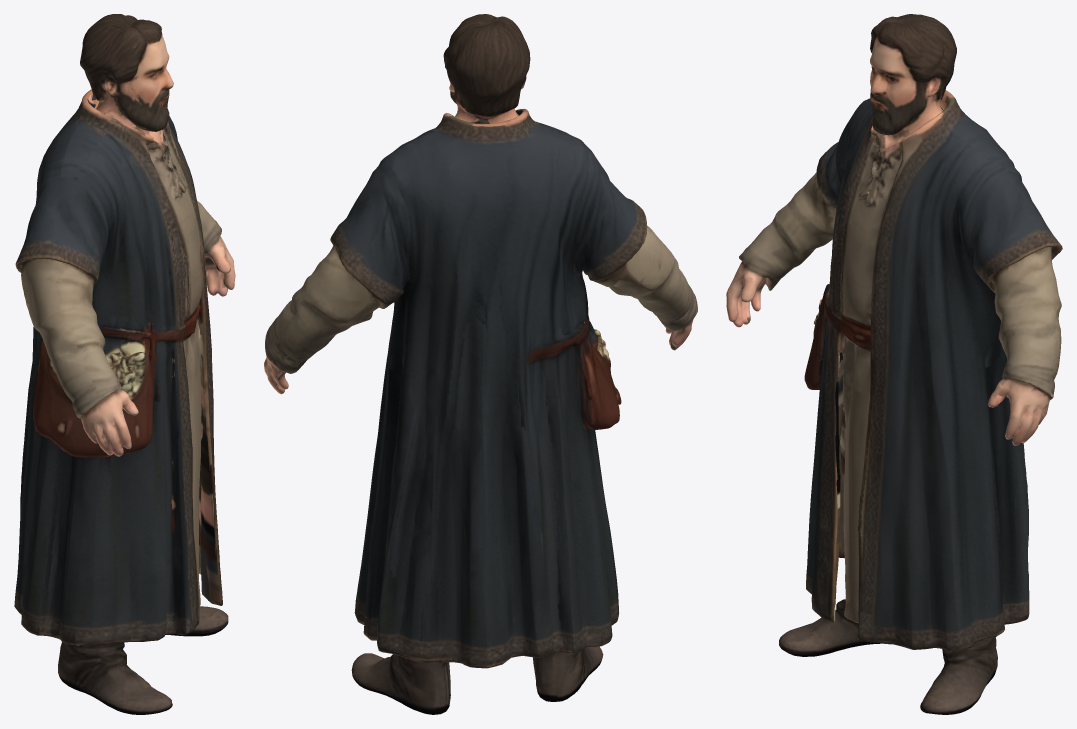
File: kupec.glb
The picture shows the model from 3 angles, left to right: view 1: azimuth 30°, elevation 25°; view 2: azimuth 150°, elevation 25°; view 3: azimuth 270°, elevation 25°; orthographic projection. The views are drawn at different scales.
Parts seen in each view (by area): view 1: world; view 2: world; view 3: world.
Boxes of the visible parts, x1,y1,x2,y2 form: world: (14, 14, 235, 714); world: (264, 14, 697, 714); world: (726, 14, 1062, 714).
Bounding box in the file's own units: 0.9158 × 1.94 × 0.9144.
1 material, 1 textured.
